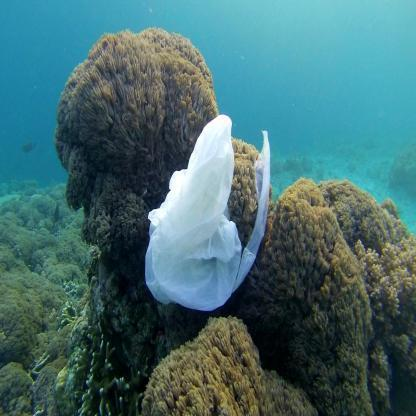Rác: (139, 111, 273, 301)
